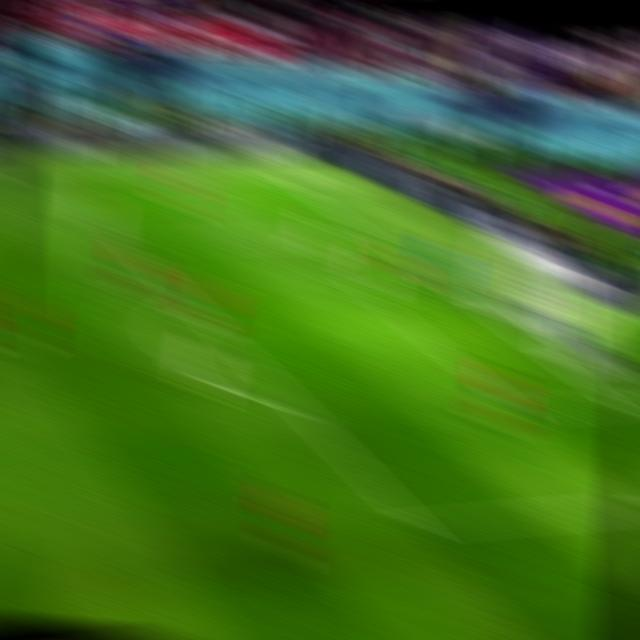bigarea_bottom_inner: (398, 507, 438, 543)
bigarea_top_inner: (108, 230, 142, 254)
bigarea_top_outter: (354, 225, 385, 244)
bottom_arc_area_intersection: (281, 396, 315, 420)
corner: (274, 173, 303, 189)
smallarea_bottom_inner: (503, 396, 538, 424)
smallarea_bottom_outter: (596, 390, 634, 416)
smallarea_top_inner: (352, 279, 383, 299)
smallarea_top_outter: (431, 278, 462, 298)
top_arc_area_intersection: (180, 299, 213, 320)
